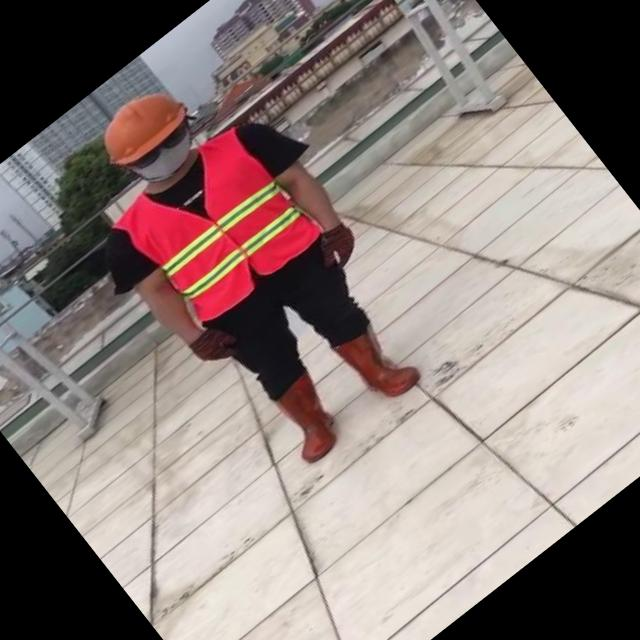hard_hat: (86, 70, 201, 178)
safety_vest: (111, 119, 325, 331)
vehicle: (37, 29, 461, 486)
work_boots: (330, 314, 426, 412), (262, 371, 356, 469)
